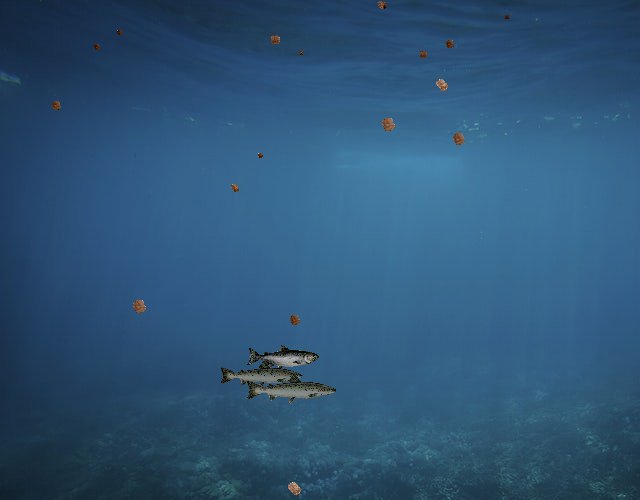Fish: (244, 372, 338, 406), (218, 359, 304, 390), (246, 344, 319, 371)
Pellet: (125, 293, 153, 321), (428, 72, 455, 99), (280, 475, 308, 500), (446, 126, 472, 152), (284, 309, 306, 331), (226, 179, 243, 197), (254, 149, 266, 161)
